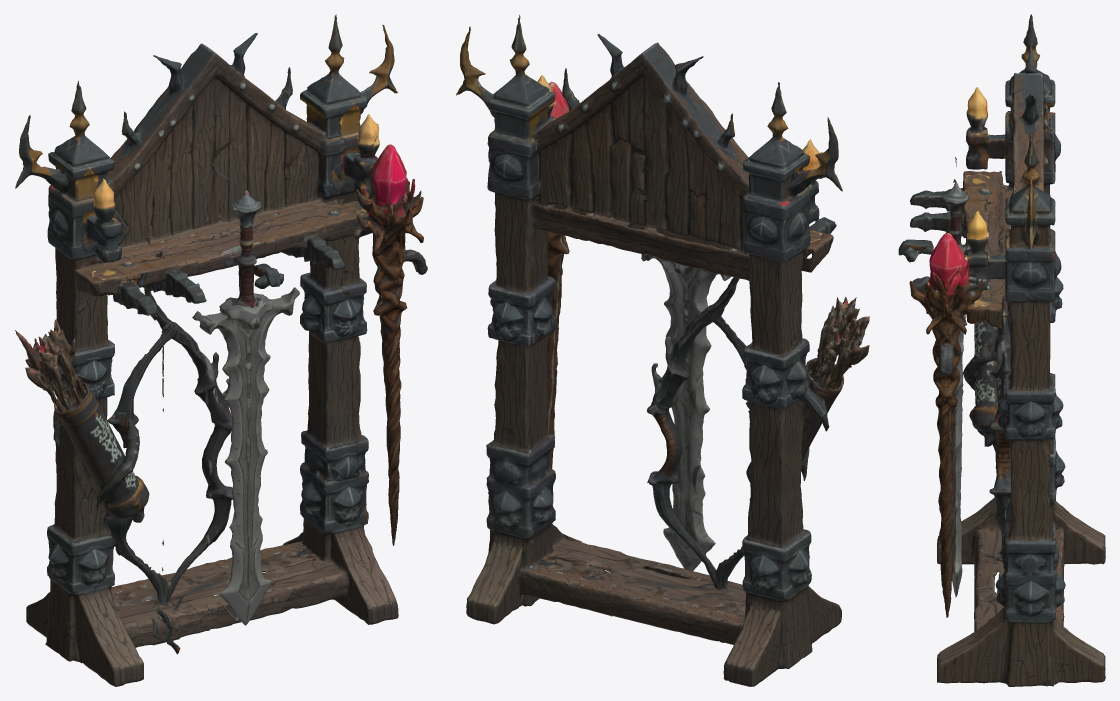
File: StoneWeaponRack.glb
The picture shows the model from 3 angles, left to right: view 1: azimuth 30°, elevation 25°; view 2: azimuth 150°, elevation 25°; view 3: azimuth 270°, elevation 25°; orthographic projection. The views are drawn at different scales.
Visible parts, largest first — view 1: texture_mapping; view 2: texture_mapping; view 3: texture_mapping.
Part boxes in pixels (<box>): texture_mapping: <box>15,14,427,686</box>; texture_mapping: <box>456,15,869,686</box>; texture_mapping: <box>898,14,1105,686</box>.
Size of the model in its own units: 0.7117 by 0.9992 by 0.3417.
1 material, 1 textured.
